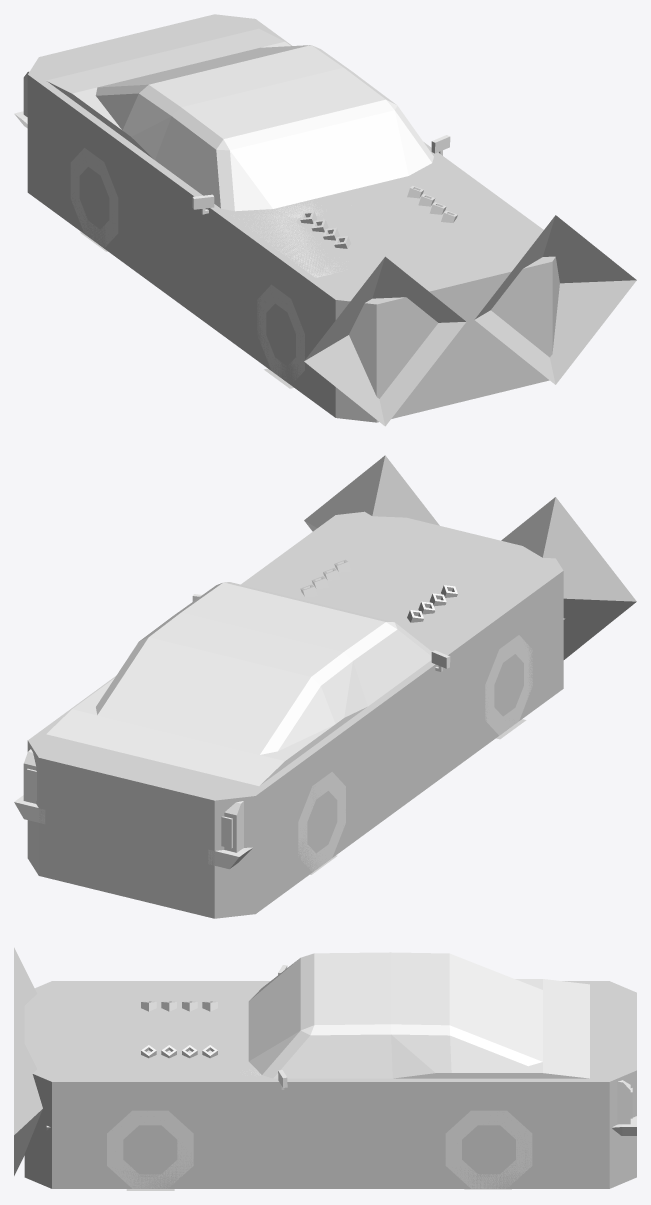
File: Phantom.fbx
3 renders of one model, top to bottom at view 1: azimuth 30°, elevation 25°; view 2: azimuth 150°, elevation 25°; view 3: azimuth 270°, elevation 25°, orthographic. The views are drawn at different scales.
Visible parts, largest first — view 1: phantom_cldr, phantom1; view 2: phantom_cldr, phantom1; view 3: phantom_cldr, phantom1.
Part boxes in pixels (x1,y1,x2,y2): phantom_cldr: (27,14,559,422); phantom1: (14,28,636,426); phantom_cldr: (27,511,563,918); phantom1: (14,455,636,872); phantom_cldr: (24,981,636,1188); phantom1: (14,947,636,1188).
Bounding box in the file's own units: 5.36 × 2.62 × 9.59.
